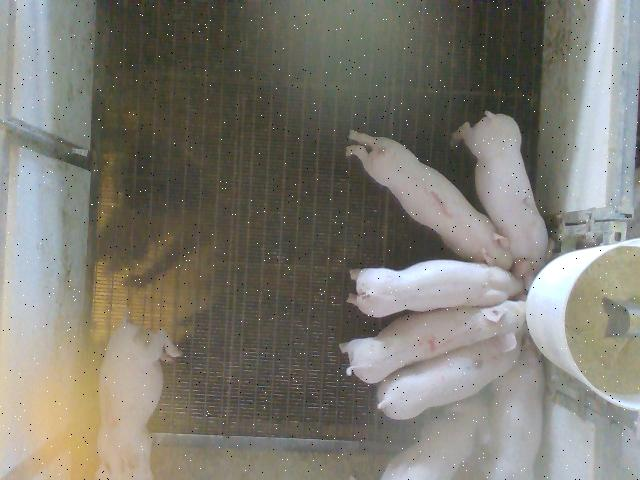pig-1: (346, 131, 512, 269)
pig-3: (96, 321, 172, 478)
pig-4: (341, 301, 525, 383), (509, 341, 514, 348)
